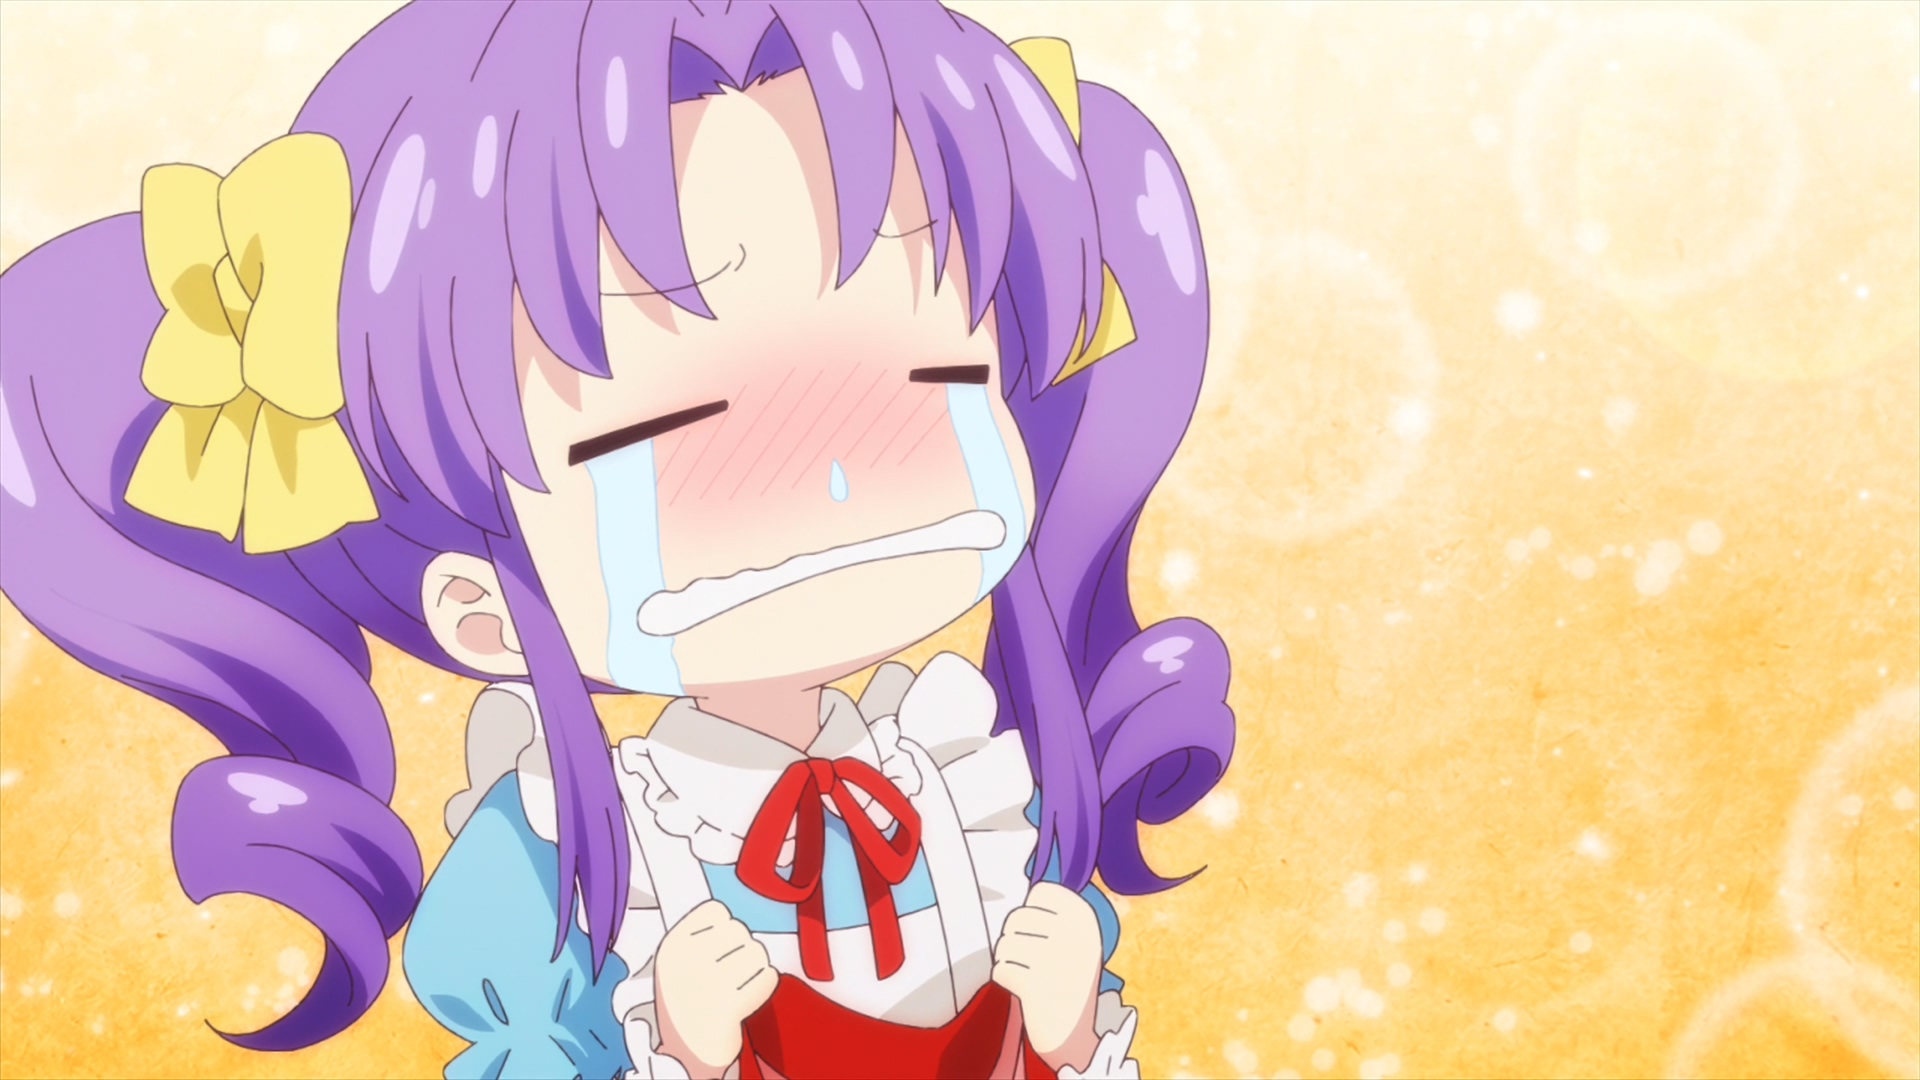阿菊: (1, 1, 1236, 1080)
